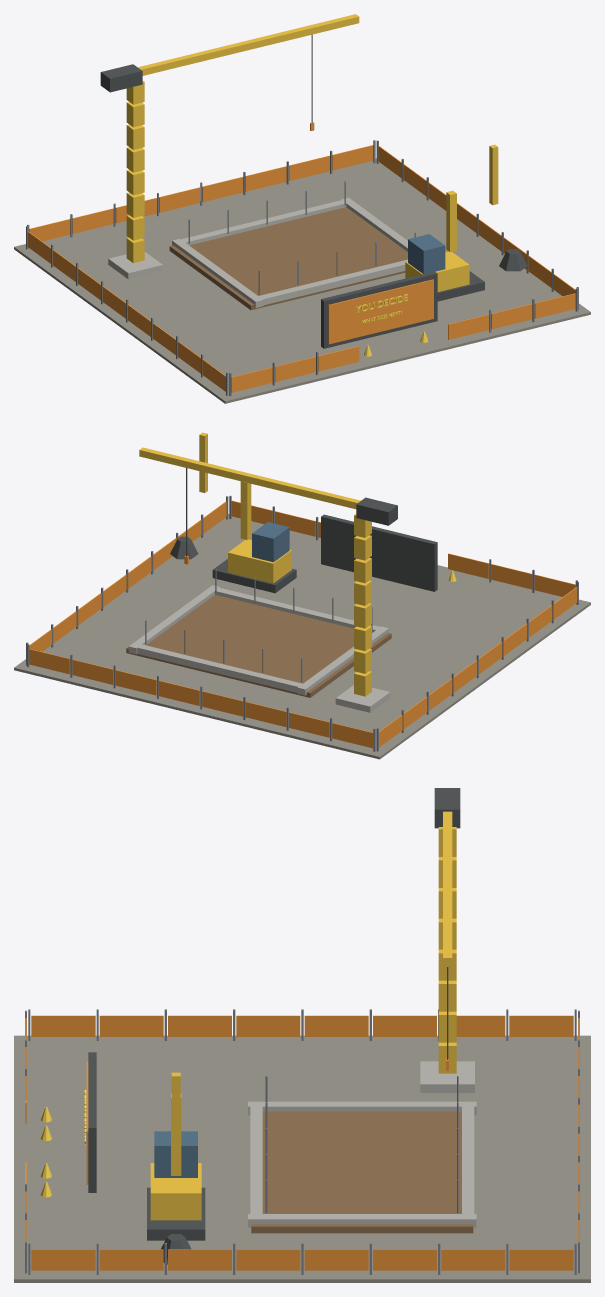
File: construction-zone.glb
3 views of the same model, one above another, from view 1: azimuth 30°, elevation 25°; view 2: azimuth 150°, elevation 25°; view 3: azimuth 270°, elevation 25° (orthographic). The views are drawn at different scales.
Parts seen in each view (by area): view 1: construction_zone_batched.001; view 2: construction_zone_batched.001; view 3: construction_zone_batched.001.
Boxes of the visible parts, bbox=[...] form: construction_zone_batched.001: bbox=[14, 14, 590, 403]; construction_zone_batched.001: bbox=[14, 432, 590, 759]; construction_zone_batched.001: bbox=[14, 788, 590, 1282].
Bounding box in the file's own units: 33.8 × 17.9 × 33.8.
